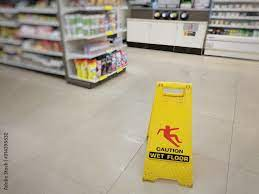wet caution sign: (138, 73, 200, 189)
